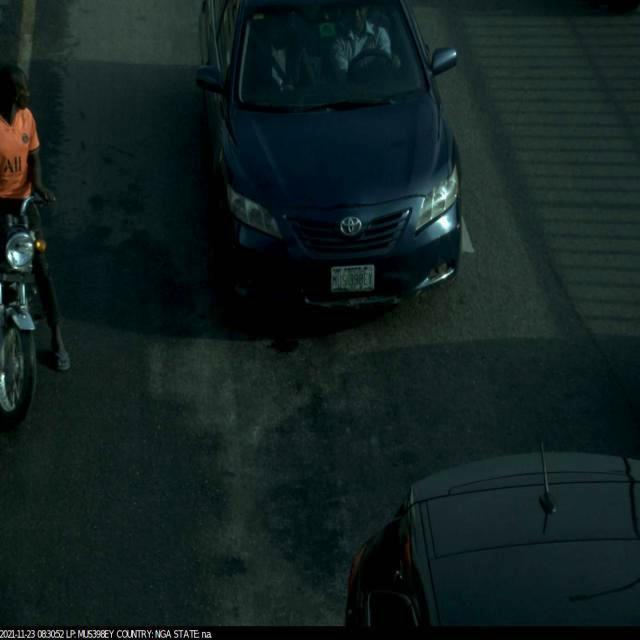person_with_seatbelt: (319, 8, 399, 90)
